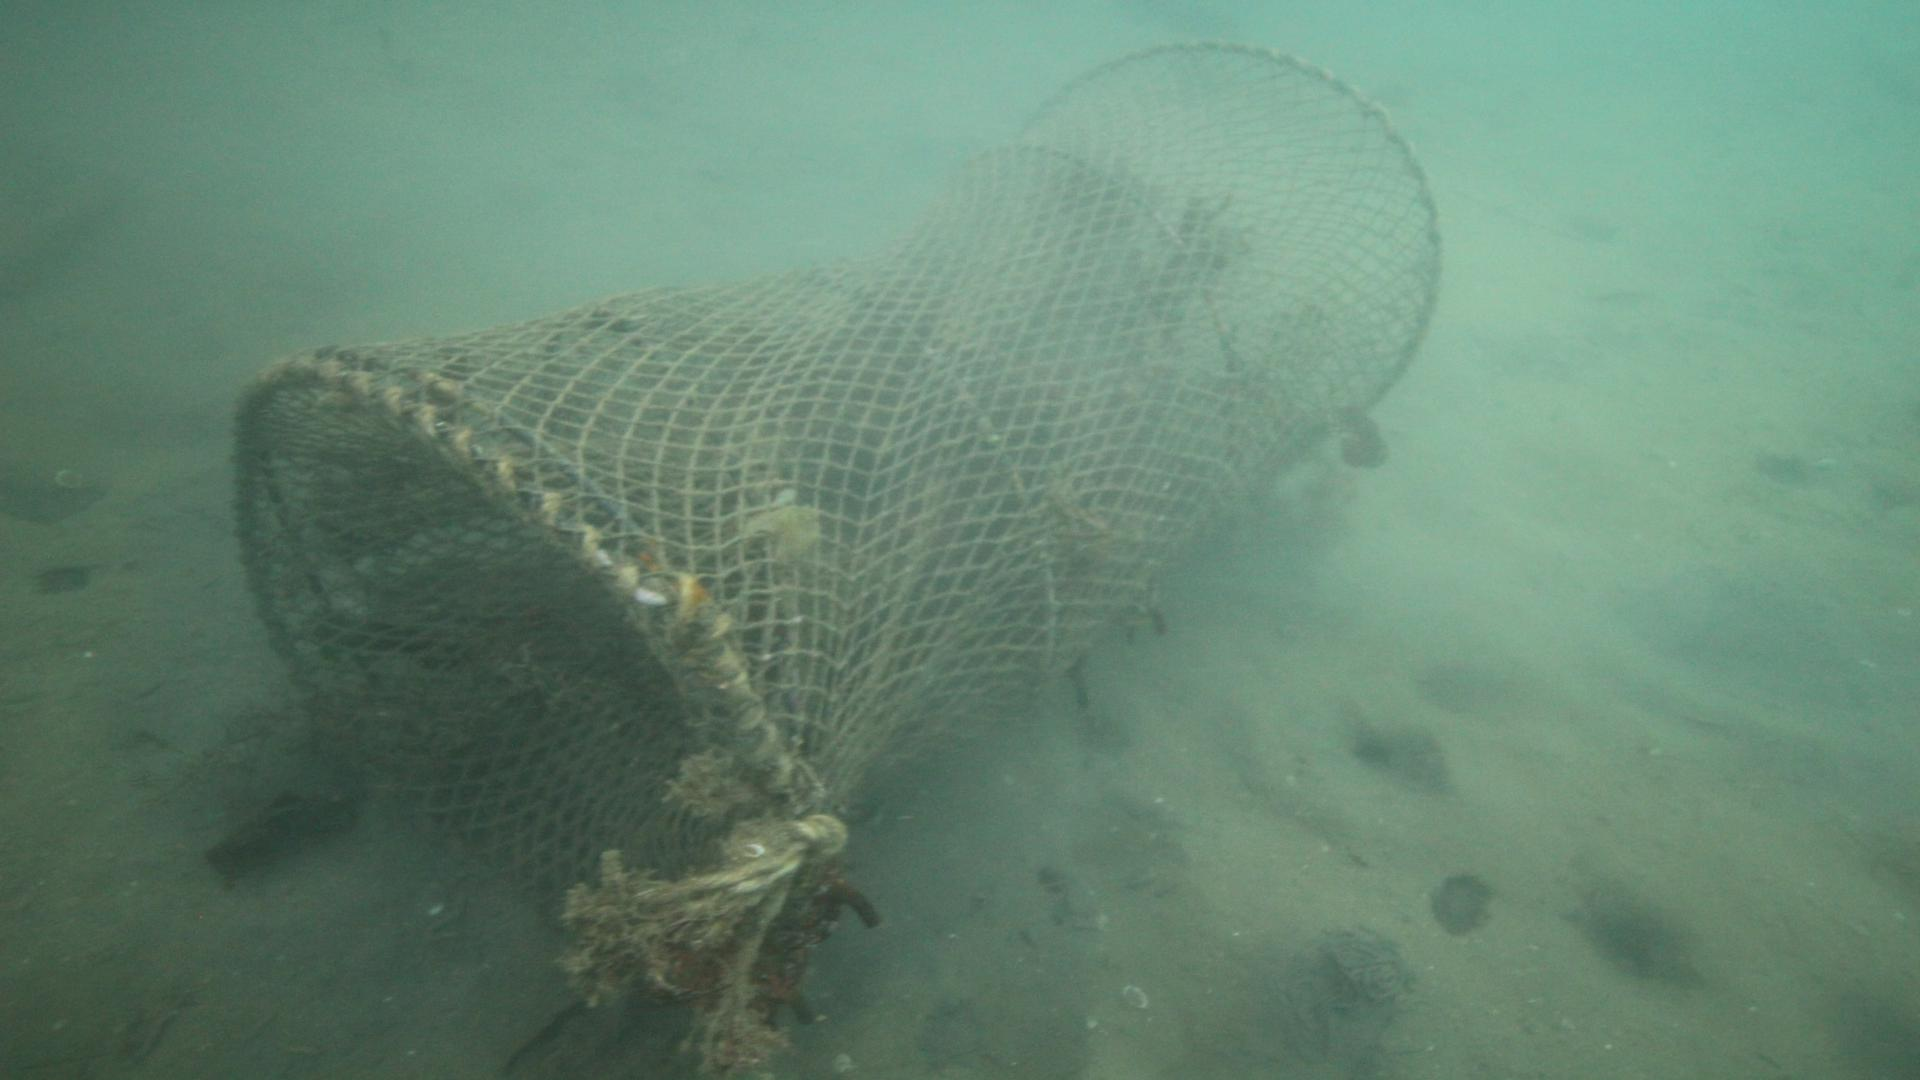spring fish trap: (229, 38, 1440, 1004)
